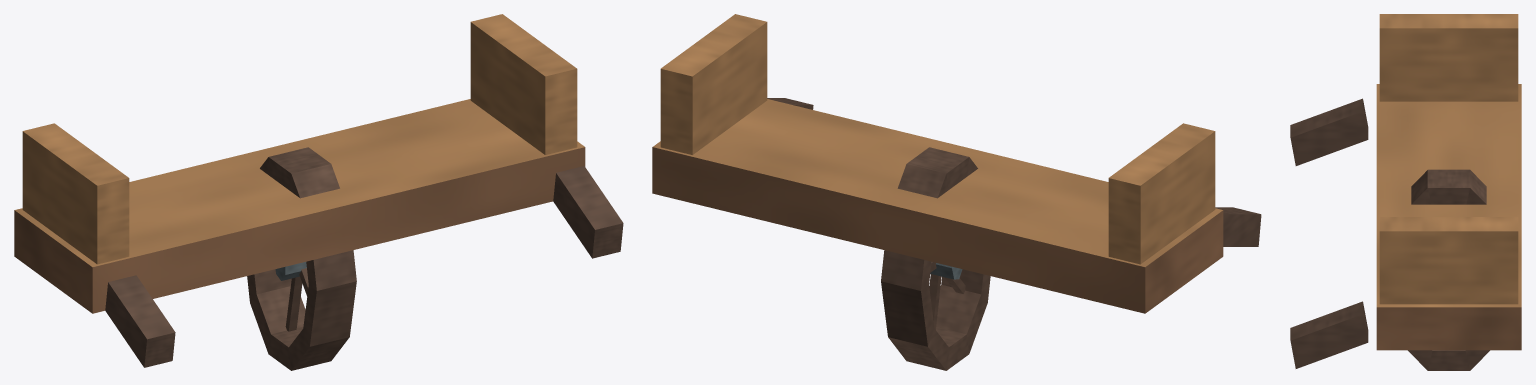
Rendered from wheelbarrow.fbx.
3 views of the same model, side by side, from view 1: azimuth 30°, elevation 25°; view 2: azimuth 150°, elevation 25°; view 3: azimuth 270°, elevation 25° (orthographic). The views are drawn at different scales.
Parts seen in each view (by area): view 1: wheelbarrow; view 2: wheelbarrow; view 3: wheelbarrow.
Part boxes in pixels (left/top/right/bottom): wheelbarrow: left=14, top=14, right=623, bottom=370; wheelbarrow: left=652, top=14, right=1261, bottom=370; wheelbarrow: left=1290, top=14, right=1521, bottom=370.
Size of the model in its own units: 160 by 80 by 70.
1 material, 1 textured.
